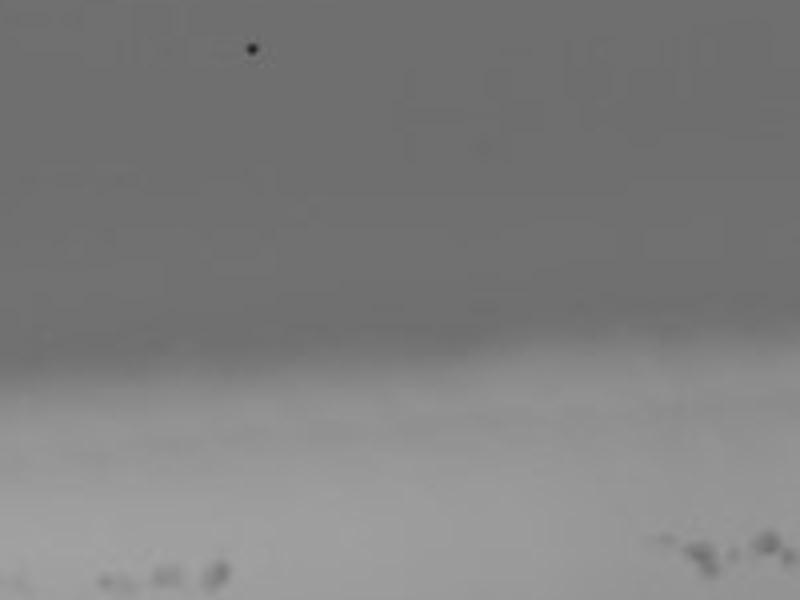defect: (687, 542, 725, 581), (200, 561, 236, 592), (747, 528, 779, 559), (149, 563, 186, 589), (241, 38, 265, 60), (94, 573, 119, 594), (726, 539, 743, 569), (656, 531, 680, 549), (782, 548, 799, 569)
